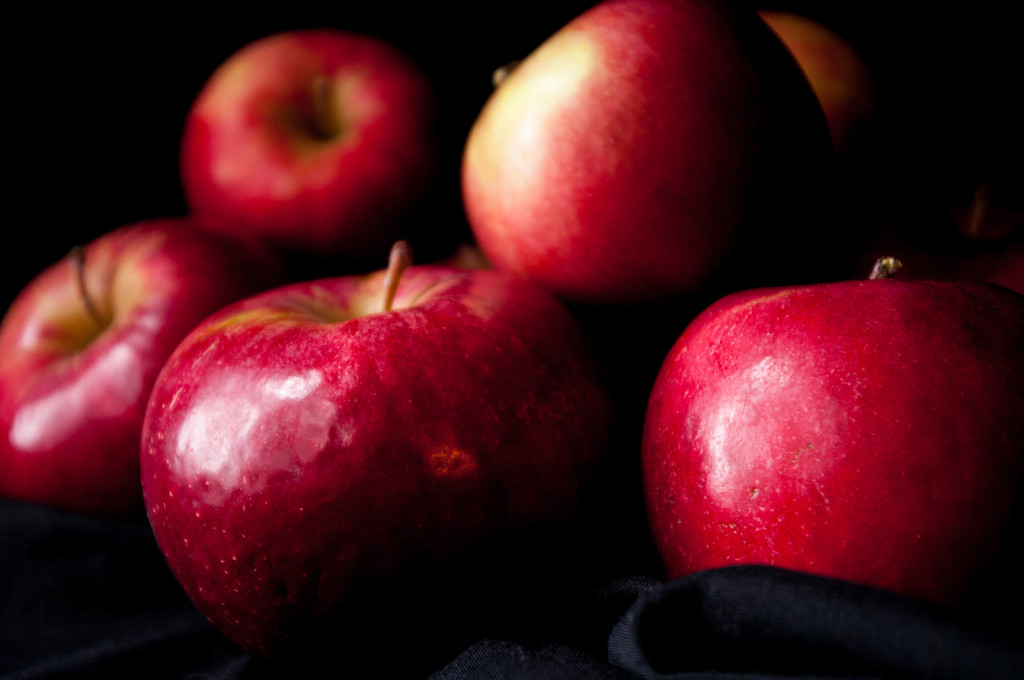Apple: (0, 0, 1023, 669), (138, 238, 612, 662), (188, 27, 442, 275)
